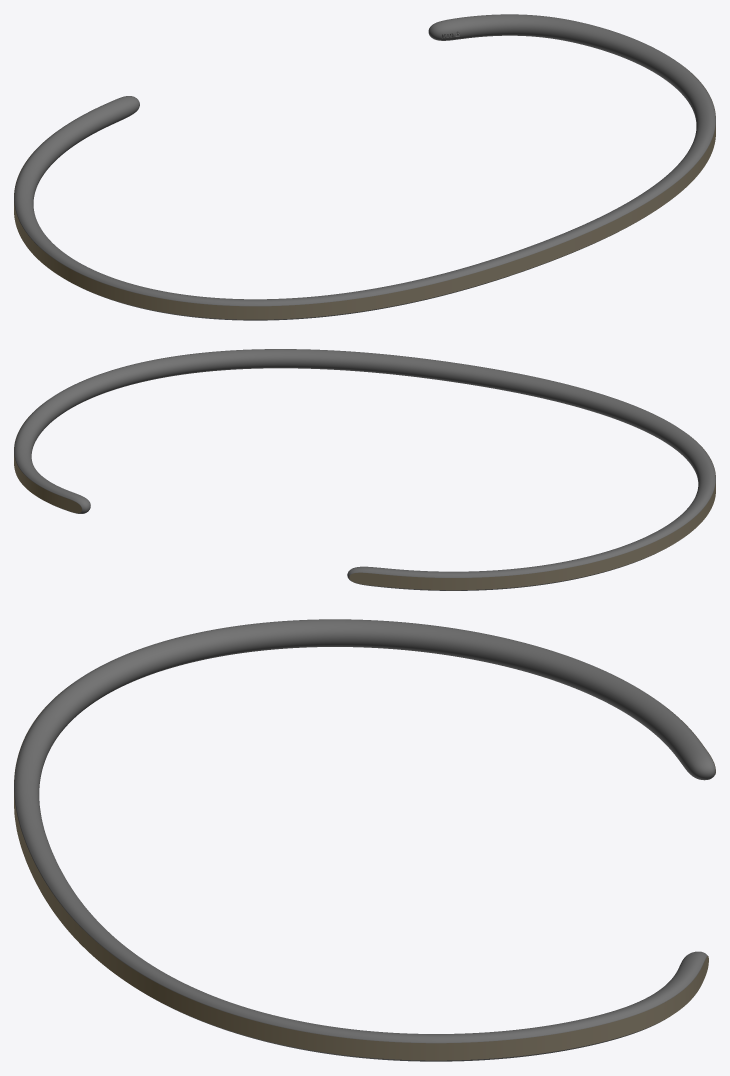
File: light-brack.glb
3 renders of one model, top to bottom at view 1: azimuth 30°, elevation 25°; view 2: azimuth 150°, elevation 25°; view 3: azimuth 270°, elevation 25°, orthographic. The views are drawn at different scales.
Visible parts, largest first — view 1: lightbody.004, lightomote.004; view 2: lightbody.004, lightomote.004; view 3: lightbody.004, lightomote.004.
Part boxes in pixels (x1,y1,x2,y2): lightbody.004: [14, 14, 715, 320]; lightomote.004: [14, 67, 715, 319]; lightbody.004: [14, 349, 715, 590]; lightomote.004: [14, 406, 715, 590]; lightbody.004: [14, 619, 715, 1061]; lightomote.004: [14, 689, 715, 1060].
Size of the model in its own units: 3.4 by 0.0938 by 2.39.
Materials: 2 (2 with a texture image).
